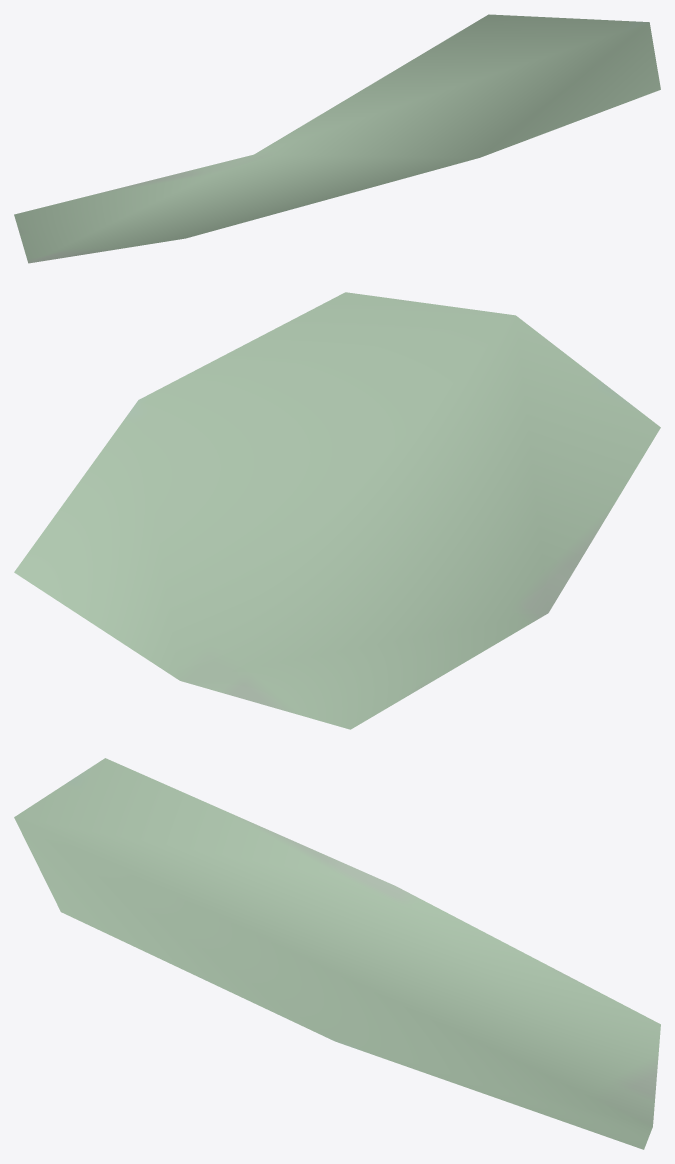
File: TROLLHOLE02_HOLECAP111.fbx
The picture shows the model from 3 angles, top to bottom: view 1: azimuth 30°, elevation 25°; view 2: azimuth 150°, elevation 25°; view 3: azimuth 270°, elevation 25°; orthographic projection. The views are drawn at different scales.
Parts seen in each view (by area): view 1: TROLLHOLE02_HOLECAP111; view 2: TROLLHOLE02_HOLECAP111; view 3: TROLLHOLE02_HOLECAP111.
Boxes of the visible parts, x1,y1,x2,y2 form: TROLLHOLE02_HOLECAP111: [14, 14, 660, 263]; TROLLHOLE02_HOLECAP111: [14, 292, 660, 729]; TROLLHOLE02_HOLECAP111: [14, 758, 660, 1149].
Bounding box in the file's own units: 16176 × 7300 × 16316.
1 material, 1 textured.
